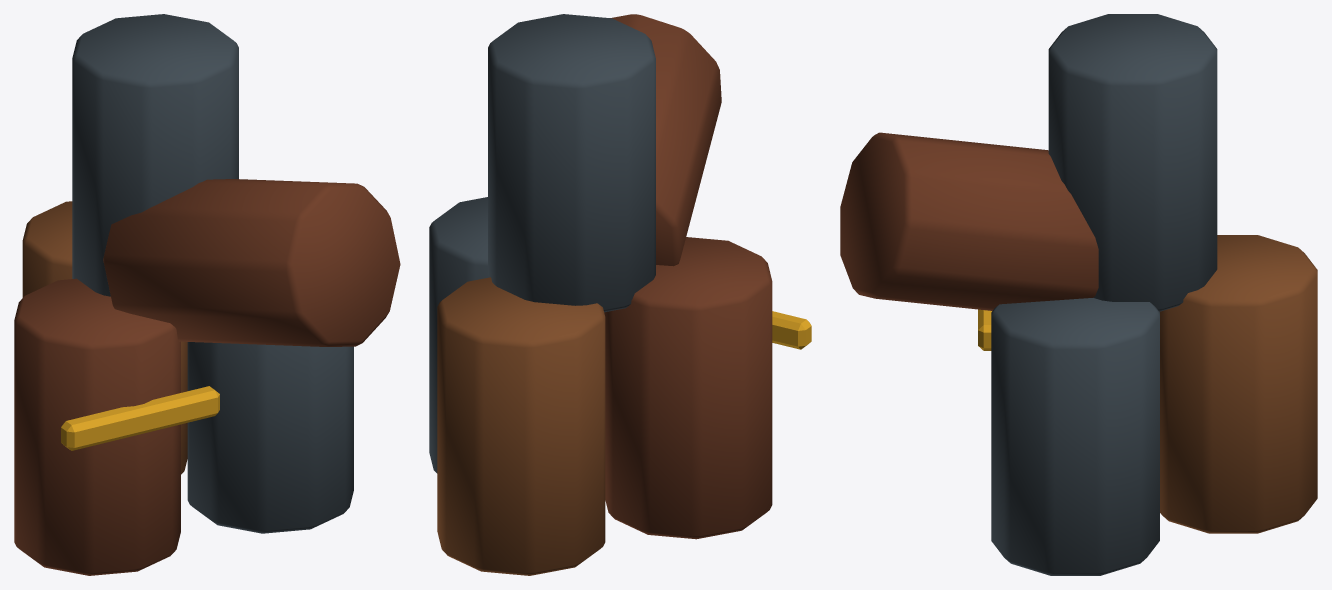
Rendered from fuel_barrel_stack.glb.
3 views of the same model, side by side, from view 1: azimuth 30°, elevation 25°; view 2: azimuth 150°, elevation 25°; view 3: azimuth 270°, elevation 25° (orthographic).
Visible parts, largest first — view 1: prop.fuel_barrel_stack; view 2: prop.fuel_barrel_stack; view 3: prop.fuel_barrel_stack.
Boxes of the visible parts, x1=… form: prop.fuel_barrel_stack: x1=14, y1=14, x2=400, y2=575; prop.fuel_barrel_stack: x1=429, y1=14, x2=811, y2=575; prop.fuel_barrel_stack: x1=840, y1=14, x2=1317, y2=575.
Size of the model in its own units: 1.26 by 1.7 by 1.62.
